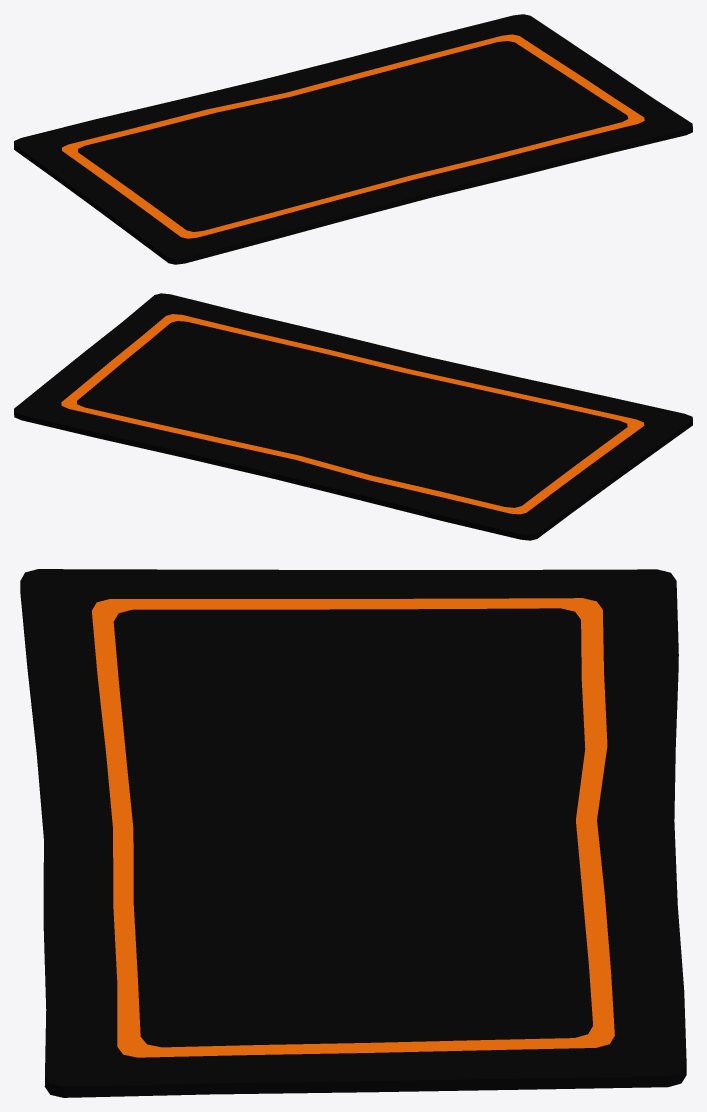
Rendered from obj_Rug.fbx.
The picture shows the model from 3 angles, top to bottom: view 1: azimuth 30°, elevation 25°; view 2: azimuth 150°, elevation 25°; view 3: azimuth 270°, elevation 25°; orthographic projection. The views are drawn at different scales.
Parts seen in each view (by area): view 1: Plane.005; view 2: Plane.005; view 3: Plane.005.
Boxes of the visible parts, x1,y1,x2,y2 form: Plane.005: [14, 14, 692, 264]; Plane.005: [14, 293, 692, 540]; Plane.005: [20, 569, 686, 1097].
Bounding box in the file's own units: 393 × 213 × 3.85.
